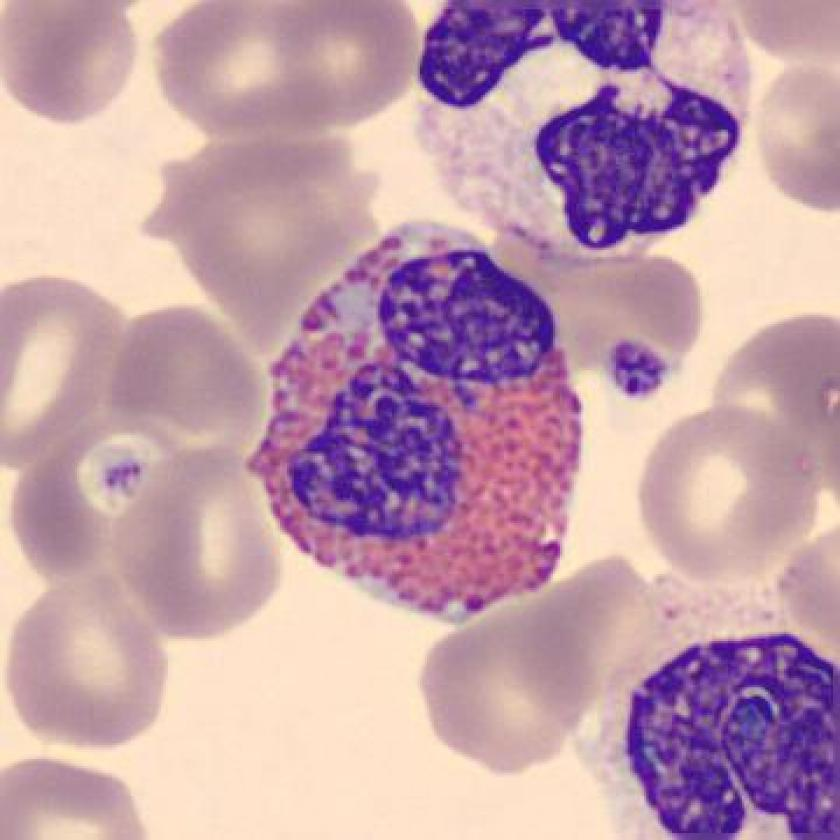eosinophil: (244, 205, 598, 633)
